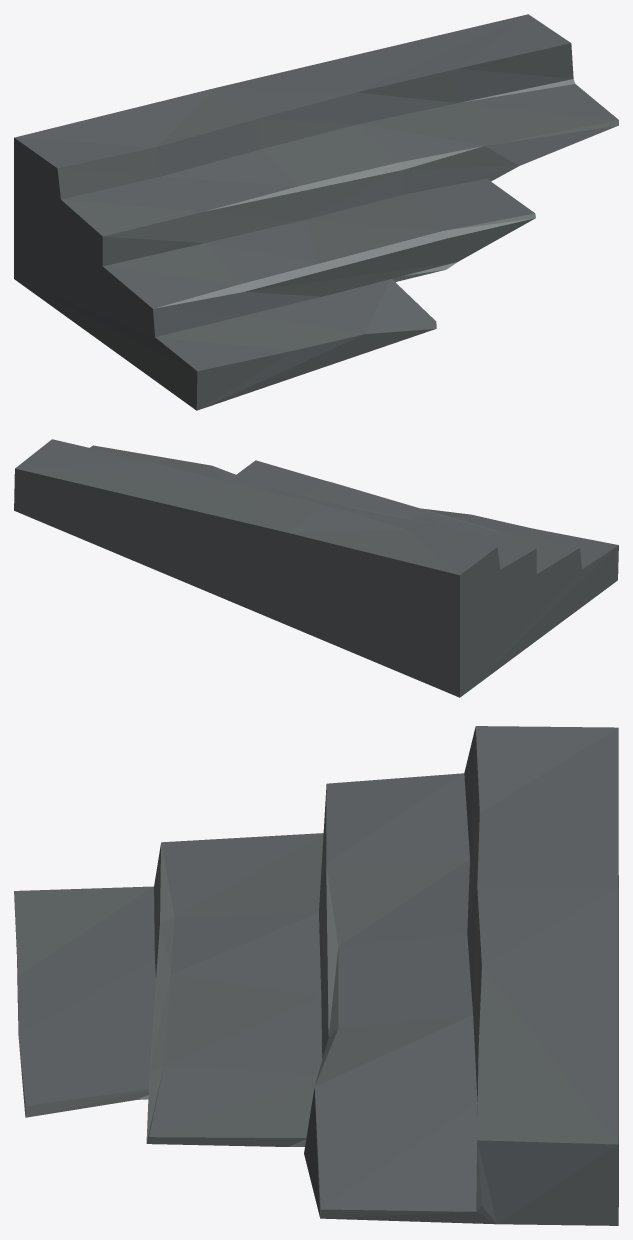
The model's file is MCastle_Steps_09.FBX.
The picture shows the model from 3 angles, top to bottom: view 1: azimuth 30°, elevation 25°; view 2: azimuth 150°, elevation 25°; view 3: azimuth 270°, elevation 25°; orthographic projection. The views are drawn at different scales.
Parts seen in each view (by area): view 1: MCastle_Steps_09_LOD0; view 2: MCastle_Steps_09_LOD0; view 3: MCastle_Steps_09_LOD0.
Boxes of the visible parts, box(x1,y1,x2,y2) form: MCastle_Steps_09_LOD0: box(14, 14, 618, 410); MCastle_Steps_09_LOD0: box(14, 439, 618, 697); MCastle_Steps_09_LOD0: box(14, 726, 618, 1225).
Size of what is drawn, in the model's own units: 2.59 by 0.6851 by 1.59.
